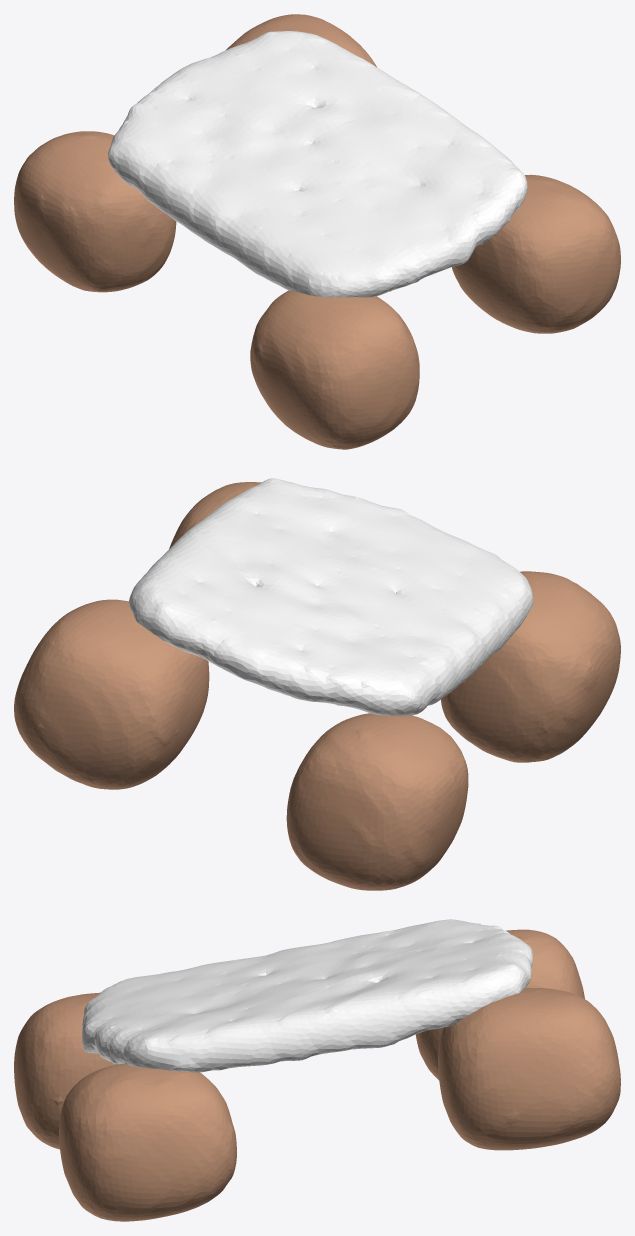
The model's file is chaji4.obj.
3 renders of one model, top to bottom at view 1: azimuth 30°, elevation 25°; view 2: azimuth 150°, elevation 25°; view 3: azimuth 270°, elevation 25°, orthographic. The views are drawn at different scales.
Size of the model in its own units: 0.5056 by 0.2774 by 0.6136.
